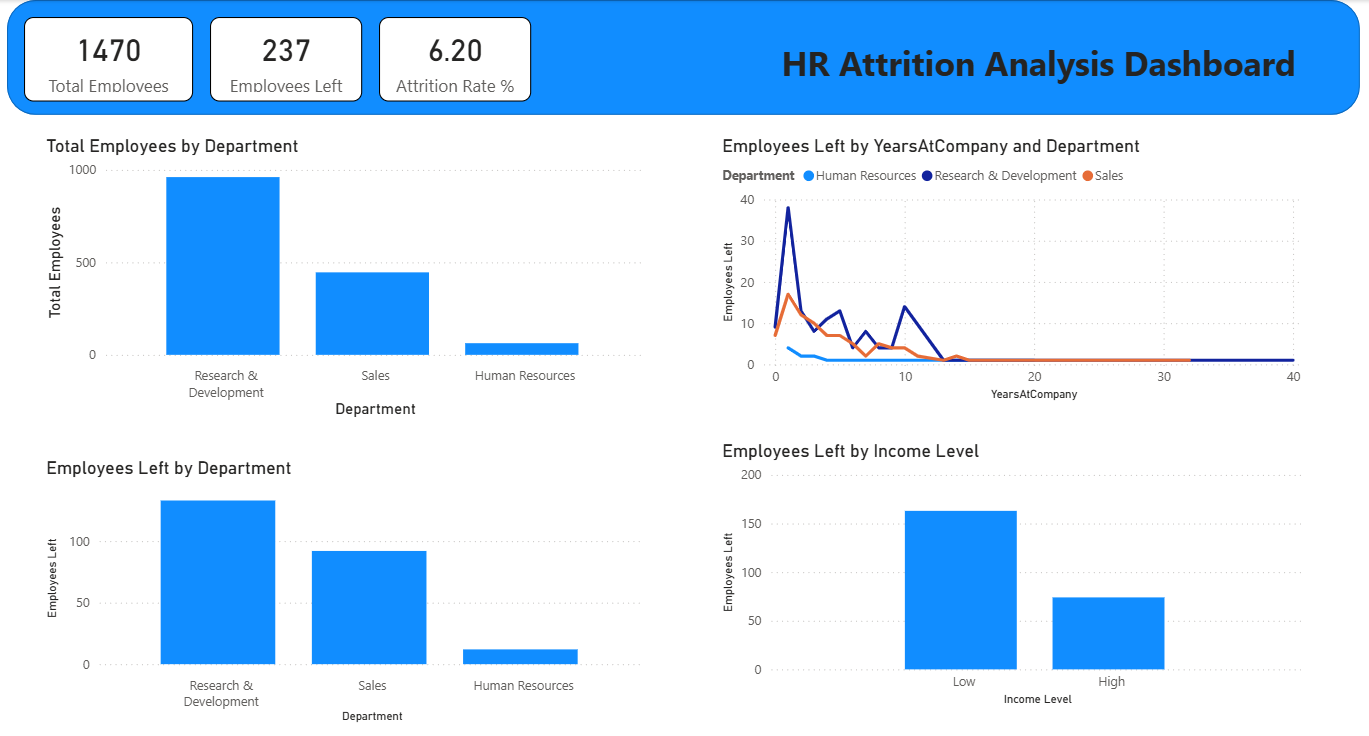

Layout of this report page (visuals, bound fields, positions):
{"tool":"powerbi","page":{"name":"Main","canvas":[1280,720],"ordinal":0},"visuals":[{"type":"shape","box":[0,0,1280,108.6],"z":0,"group":"g1"},{"type":"columnChart","fields":{"Category":["WA_Fn_UseC__HR_Employee_Attrition__2.Department"],"Y":["WA_Fn_UseC__HR_Employee_Attrition__2.Employees Left"]},"box":[32,432,576,256],"z":0},{"type":"card","fields":{"Values":["WA_Fn_UseC__HR_Employee_Attrition__2.Employees Left"]},"box":[192,16,144,80],"z":1000,"group":"g1"},{"type":"columnChart","fields":{"Y":["WA_Fn_UseC__HR_Employee_Attrition__2.Total Employees"],"Category":["WA_Fn_UseC__HR_Employee_Attrition__2.Department"]},"box":[32,128,576,272],"z":1000},{"type":"card","fields":{"Values":["WA_Fn_UseC__HR_Employee_Attrition__2.Total Employees"]},"box":[16,16,160,80],"z":2000,"group":"g1"},{"type":"lineChart","fields":{"Y":["WA_Fn_UseC__HR_Employee_Attrition__2.Employees Left"],"Category":["WA_Fn_UseC__HR_Employee_Attrition__2.YearsAtCompany"],"Series":["WA_Fn_UseC__HR_Employee_Attrition__2.Department"]},"box":[672,128,560,256],"z":2000},{"type":"card","fields":{"Values":["WA_Fn_UseC__HR_Employee_Attrition__2.Attrition Rate %"]},"box":[352,16,144,80],"z":3000,"group":"g1"},{"type":"columnChart","fields":{"Y":["WA_Fn_UseC__HR_Employee_Attrition__2.Employees Left"],"Category":["WA_Fn_UseC__HR_Employee_Attrition__2.Income Level"]},"box":[672,416,560,256],"z":3000},{"type":"group","id":"g1","title":"TITLE KPI","box":[0,0,1280,108.6],"z":4000},{"type":"textbox","box":[720,32,512,64],"z":4000,"group":"g1"}]}

Visuals, with their boxes on the page's 1280x720 design canvas (x1, y1, x2, y2). These are canvas units, not pixel positions in the 1369x736 screenshot, which may show the page scaled, cropped or inside an application window:
shape: 0/0/1280/109
columnChart - WA_Fn_UseC__HR_Employee_Attrition__2.Department x WA_Fn_UseC__HR_Employee_Attrition__2.Employees Left: 32/432/608/688
card - WA_Fn_UseC__HR_Employee_Attrition__2.Employees Left: 192/16/336/96
columnChart - WA_Fn_UseC__HR_Employee_Attrition__2.Total Employees x WA_Fn_UseC__HR_Employee_Attrition__2.Department: 32/128/608/400
card - WA_Fn_UseC__HR_Employee_Attrition__2.Total Employees: 16/16/176/96
lineChart - WA_Fn_UseC__HR_Employee_Attrition__2.Employees Left x WA_Fn_UseC__HR_Employee_Attrition__2.YearsAtCompany: 672/128/1232/384
card - WA_Fn_UseC__HR_Employee_Attrition__2.Attrition Rate %: 352/16/496/96
columnChart - WA_Fn_UseC__HR_Employee_Attrition__2.Employees Left x WA_Fn_UseC__HR_Employee_Attrition__2.Income Level: 672/416/1232/672
"TITLE KPI" group: 0/0/1280/109
textbox: 720/32/1232/96
